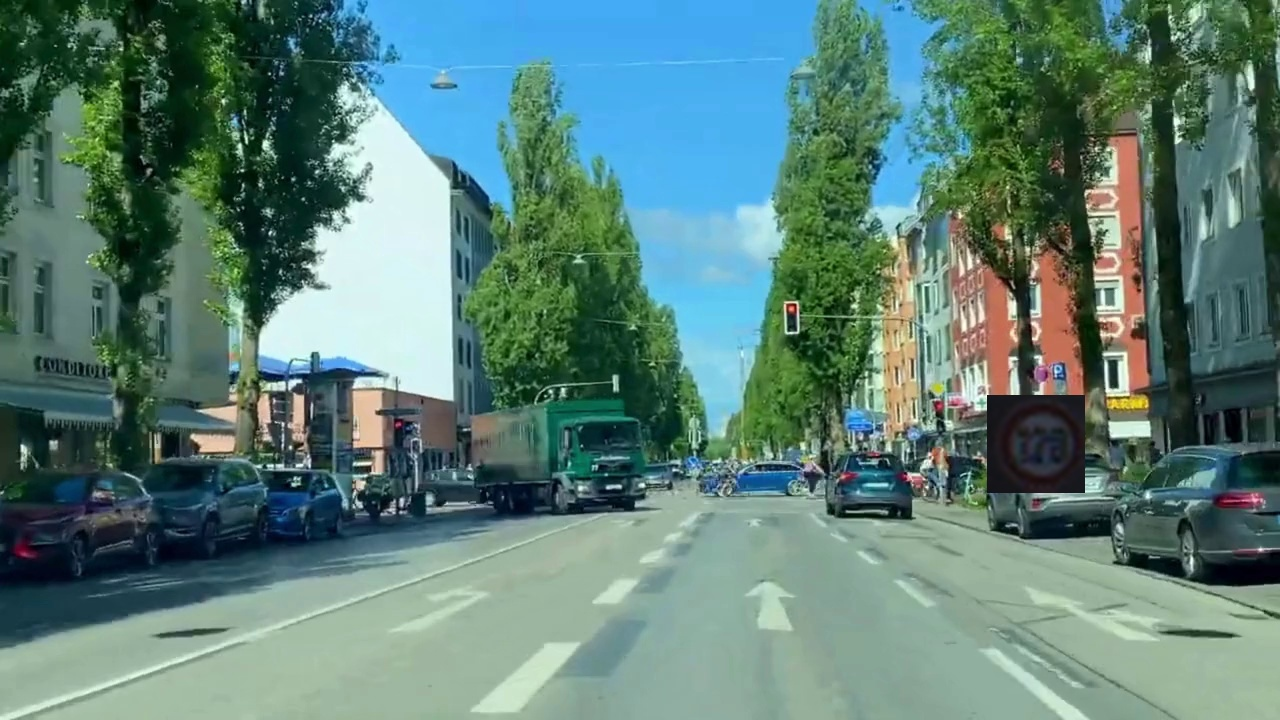Speed 120: (987, 395, 1085, 493)
